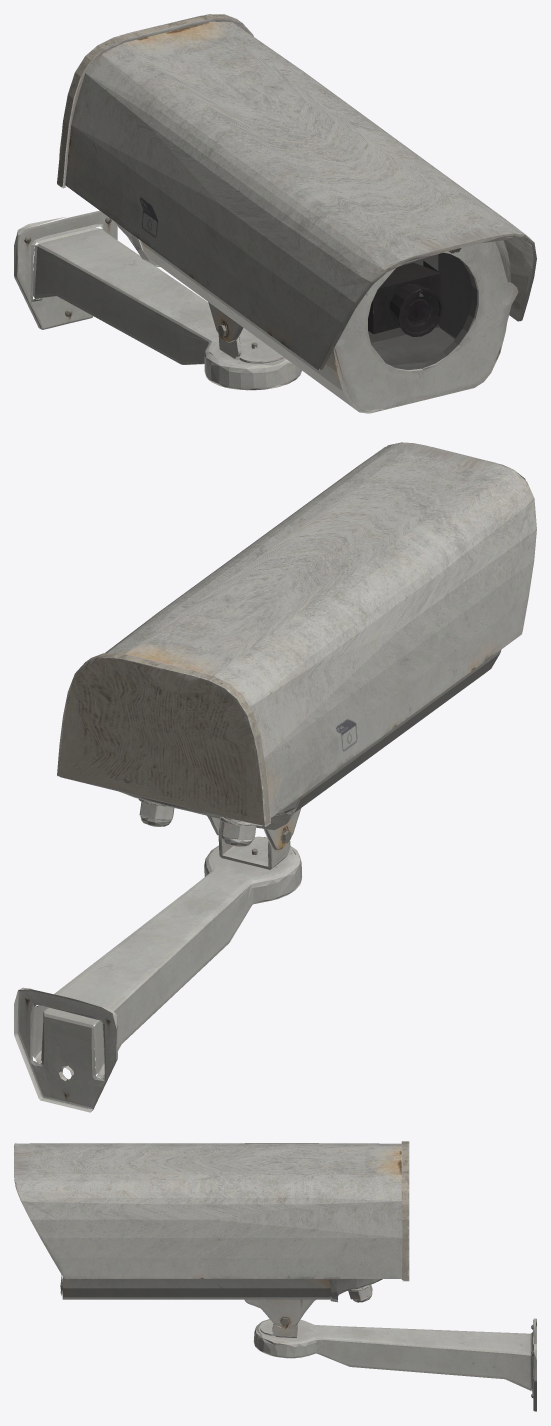
Rendered from SecurityCamera.obj.
3 renders of one model, top to bottom at view 1: azimuth 30°, elevation 25°; view 2: azimuth 150°, elevation 25°; view 3: azimuth 270°, elevation 25°, orthographic. The views are drawn at different scales.
Parts seen in each view (by area): view 1: security_camera_001, security_camera_001_1; view 2: security_camera_001; view 3: security_camera_001.
Part boxes in pixels (<box>): security_camera_001: <box>14,14,536,413</box>; security_camera_001_1: <box>368,252,476,369</box>; security_camera_001: <box>14,442,536,1112</box>; security_camera_001: <box>14,1141,536,1411</box>.
Bounding box in the file's own units: 0.1696 × 0.2861 × 0.5536.
2 materials, 1 textured.
